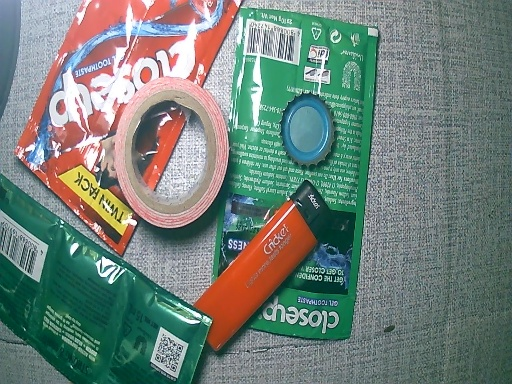metal: (280, 95, 335, 174)
plastic: (209, 7, 377, 342), (1, 164, 207, 384), (2, 3, 251, 166)
trash: (194, 183, 334, 348), (117, 77, 222, 230)
